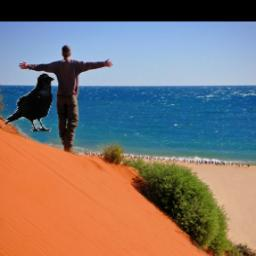Crow: (5, 73, 57, 132)
